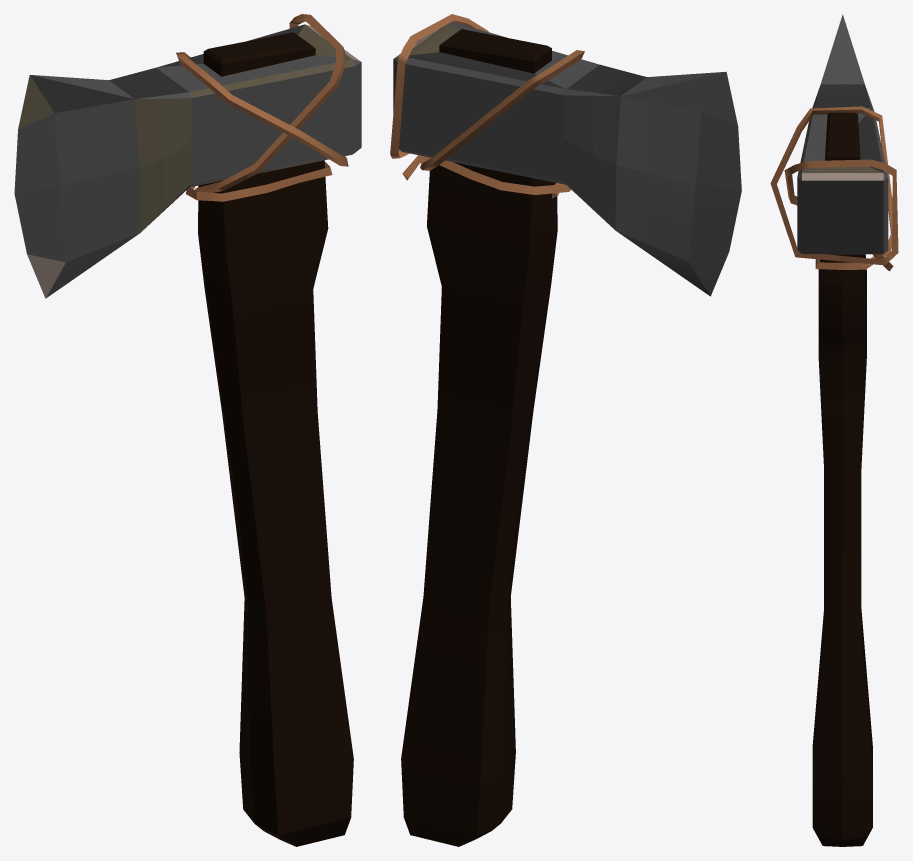
Rendered from axe.obj.
3 views of the same model, side by side, from view 1: azimuth 30°, elevation 25°; view 2: azimuth 150°, elevation 25°; view 3: azimuth 270°, elevation 25° (orthographic). The views are drawn at different scales.
Visible parts, largest first — view 1: axe_complete; view 2: axe_complete; view 3: axe_complete.
Boxes of the visible parts, x1,y1,x2,y2 form: axe_complete: [14, 14, 361, 846]; axe_complete: [390, 14, 741, 846]; axe_complete: [770, 14, 898, 846].
Bounding box in the file's own units: 1.92 × 4.55 × 0.7476.
